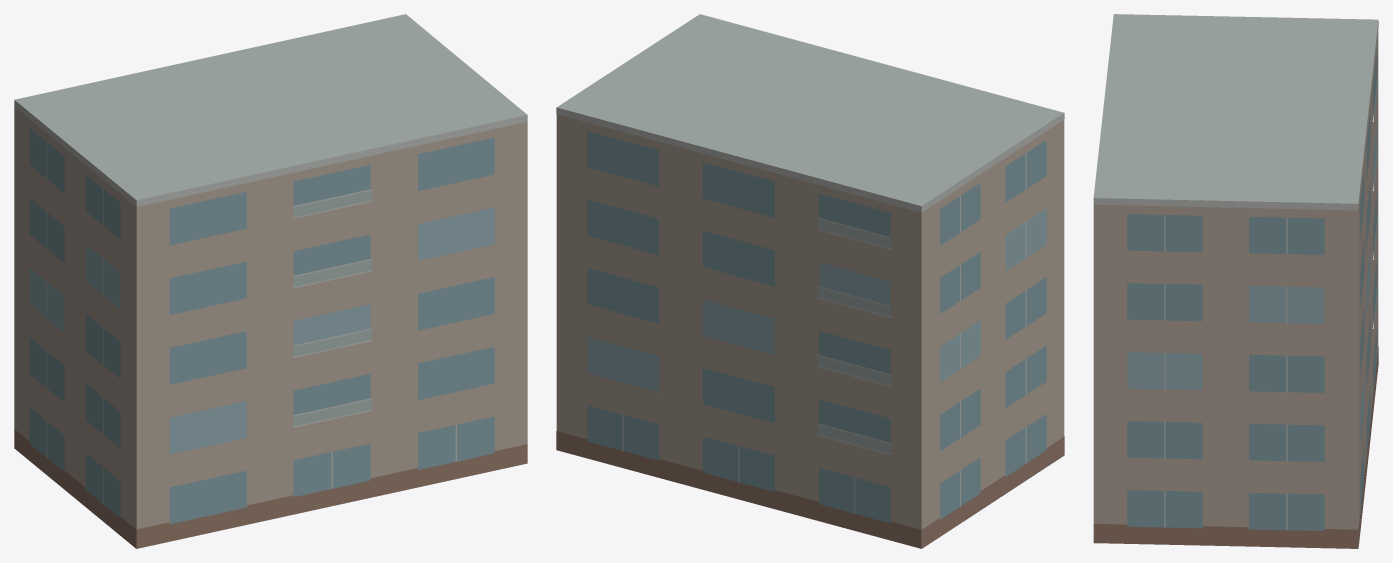
File: survey-upis-32665306.glb
The picture shows the model from 3 angles, left to right: view 1: azimuth 30°, elevation 25°; view 2: azimuth 150°, elevation 25°; view 3: azimuth 270°, elevation 25°; orthographic projection.
Visible parts, largest first — view 1: survey-upis-32665306.tmp; view 2: survey-upis-32665306.tmp; view 3: survey-upis-32665306.tmp.
Part boxes in pixels (x1,y1,x2,y2): survey-upis-32665306.tmp: [14, 14, 527, 548]; survey-upis-32665306.tmp: [556, 14, 1064, 548]; survey-upis-32665306.tmp: [1093, 14, 1378, 548].
Bounding box in the file's own units: 15 × 12.7 × 9.52.
